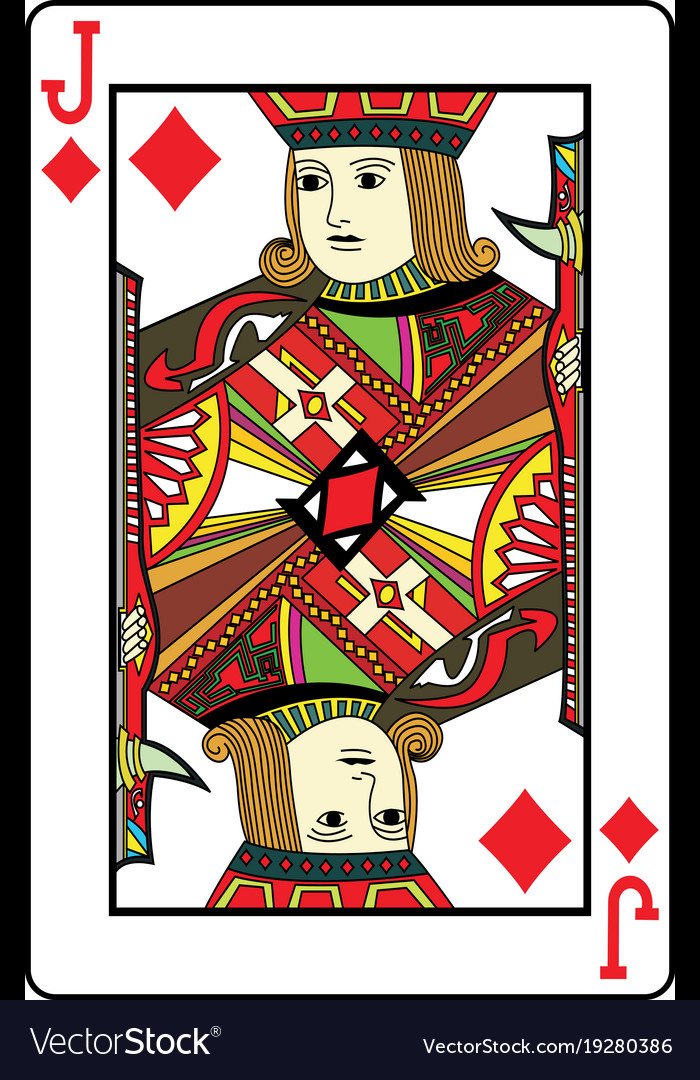jack of hearts: (27, 8, 664, 1000)
